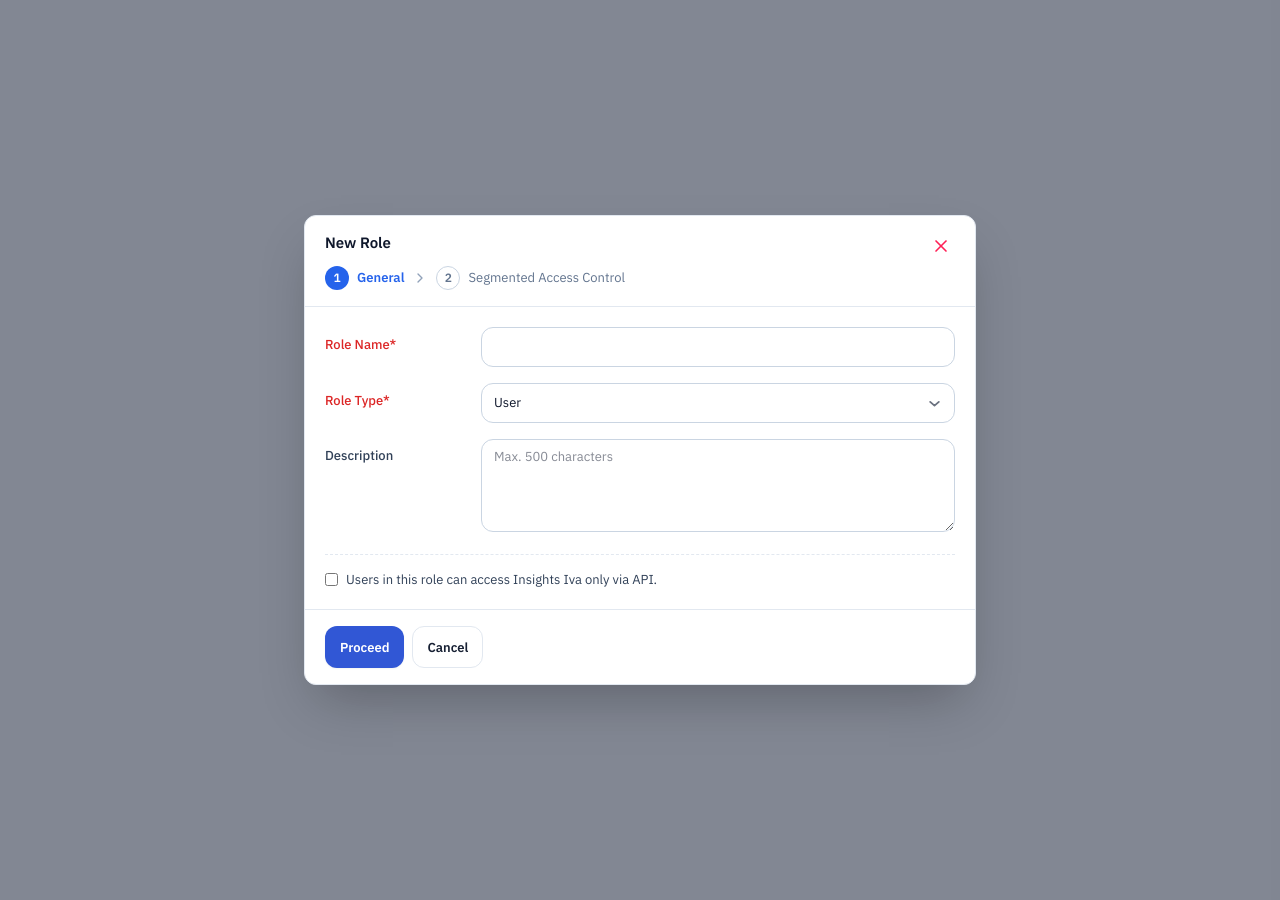
NewRoleModal › opens the more permissions popover for customers
In the field: (718, 347) [481,327,955,367], type "Store Supervisor"
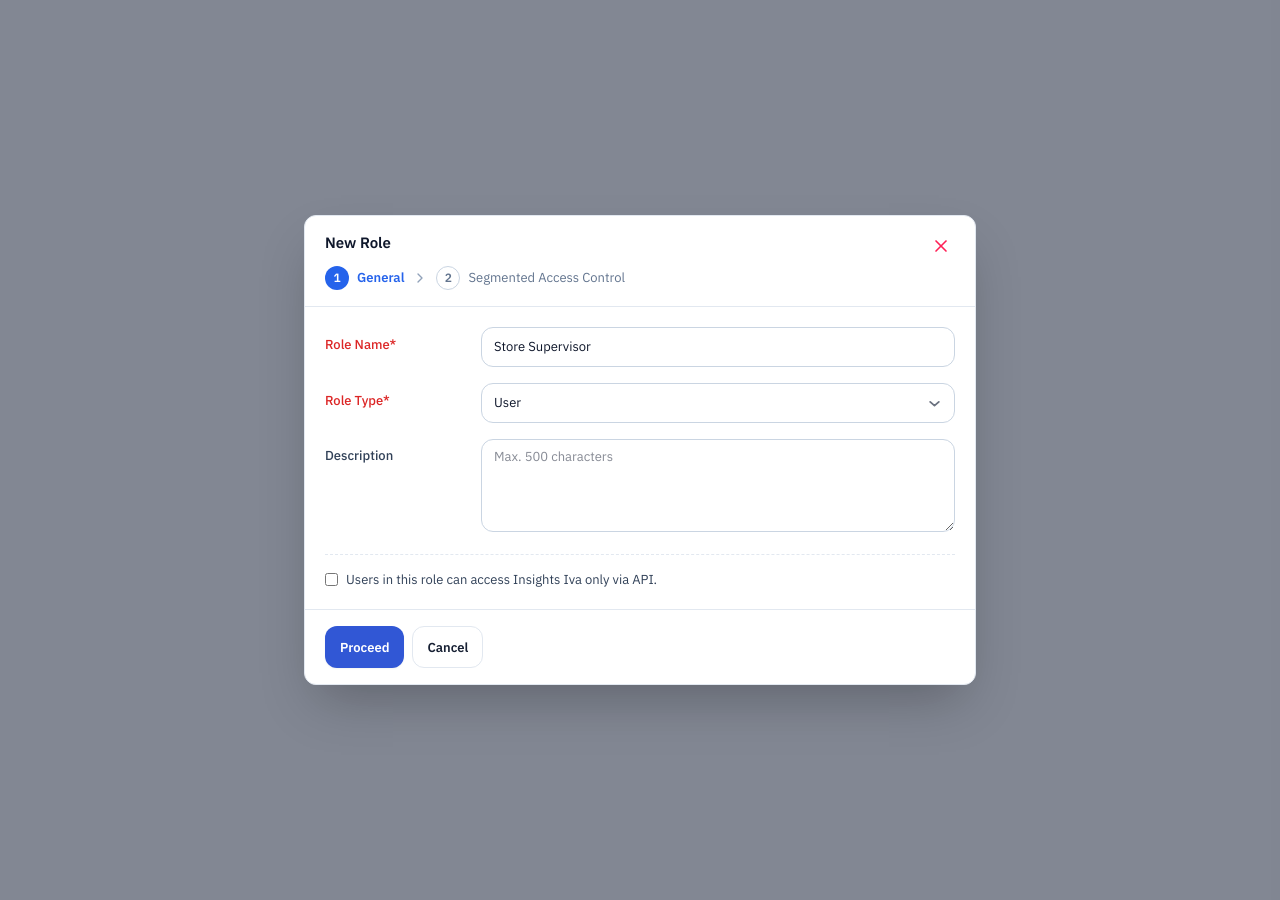
Click the button "Proceed": (365, 647) [325,626,404,668]
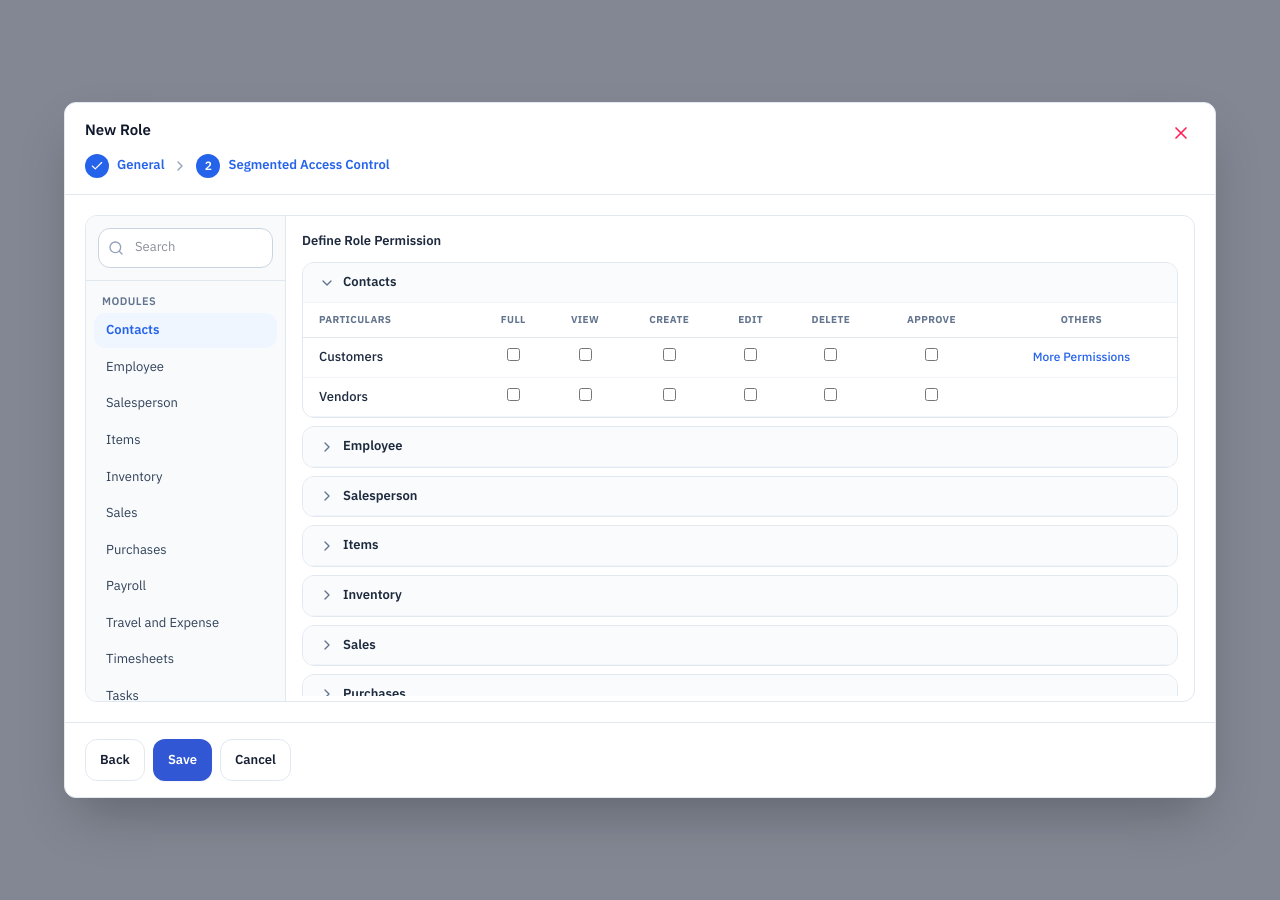
Expected: the text "Customers" is shown, [303,338,479,377]
Click the button "More Permissions": (1082, 357) [1033,349,1130,365]
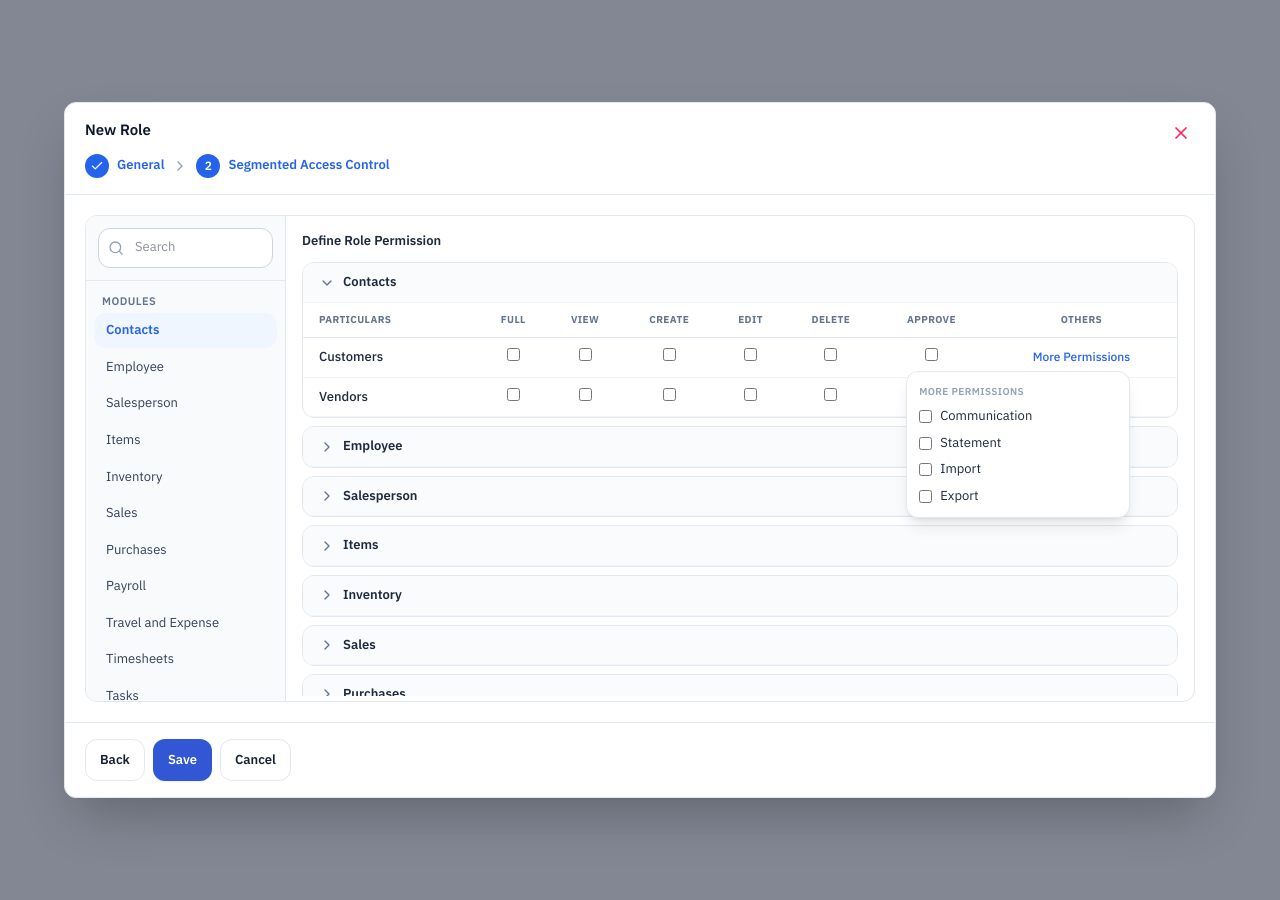
Expected: the dialog "More Permissions" is shown, [906,371,1130,518]
Expected: the text "Communication" is shown, [919,407,1032,424]
Expected: the text "Statement" is shown, [919,434,1001,451]
